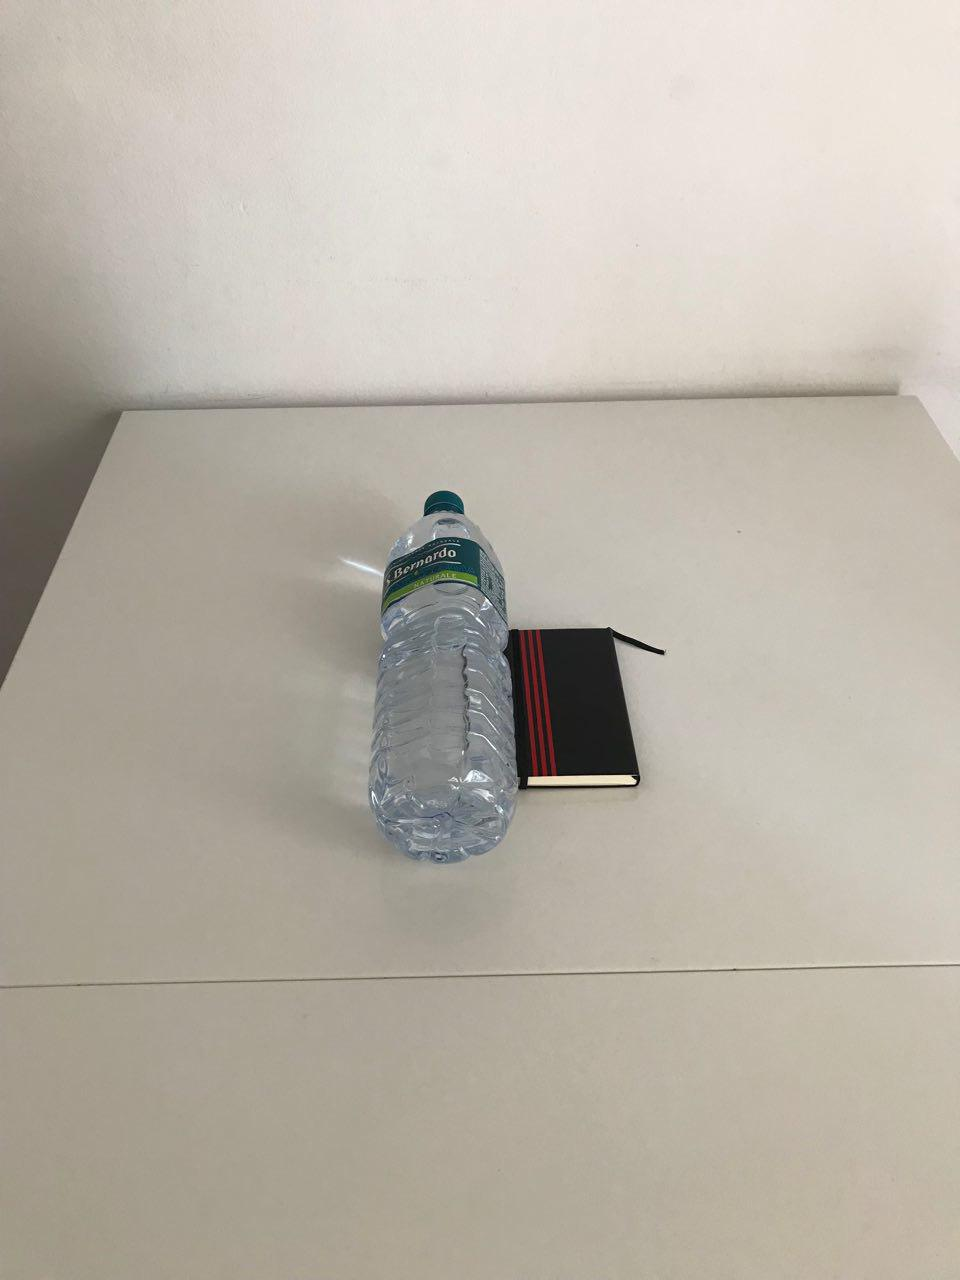san_bernardo: (366, 489, 519, 867)
